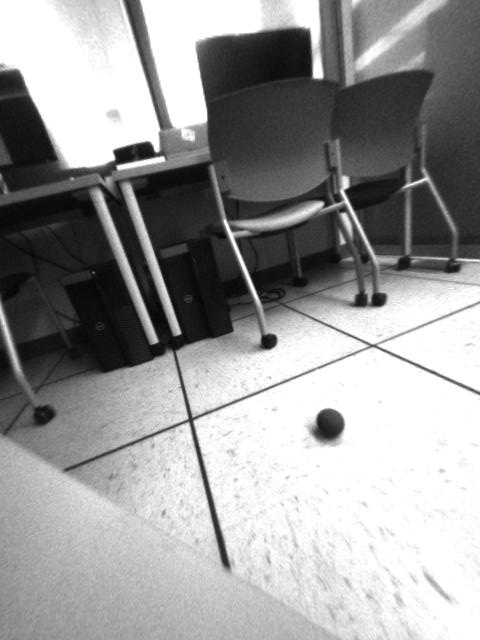dogtoy: (311, 395, 353, 448)
